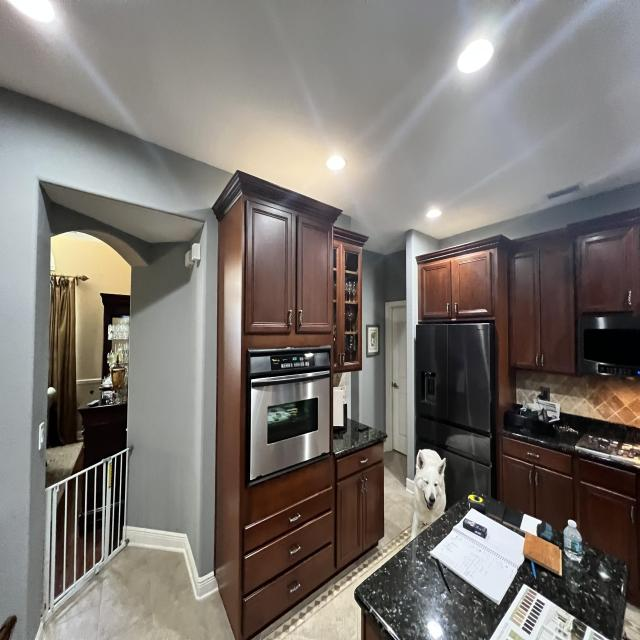Appliance_Fridge: (414, 311, 496, 503)
Appliance_Microwave: (576, 308, 640, 380)
Appliance_Oven: (247, 346, 333, 488)
Cabinet_Flat: (244, 486, 336, 637), (504, 438, 635, 496), (336, 443, 383, 481)
Cabinet_Glass: (332, 227, 368, 371)
Cabinet_Shaker: (499, 455, 640, 609), (509, 224, 640, 375), (240, 173, 342, 350), (420, 251, 496, 325), (336, 464, 384, 571)
Countertop_Granite: (354, 502, 627, 640), (503, 412, 640, 480), (332, 419, 387, 455)
